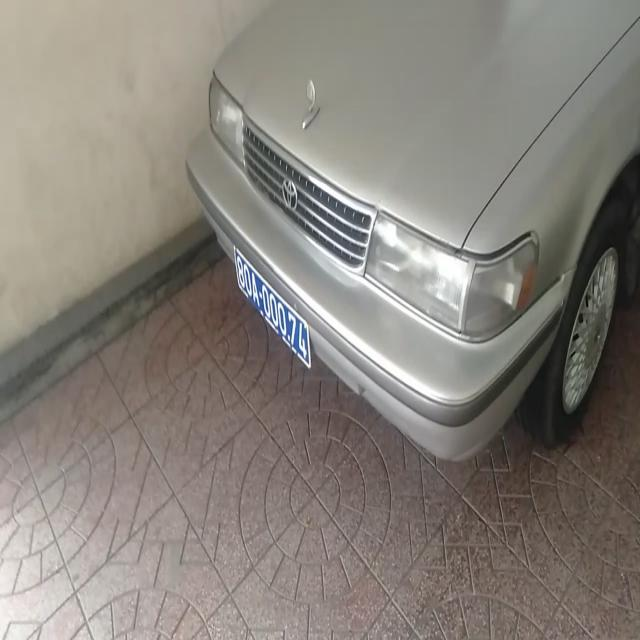bien_xanh: (231, 244, 309, 383)
